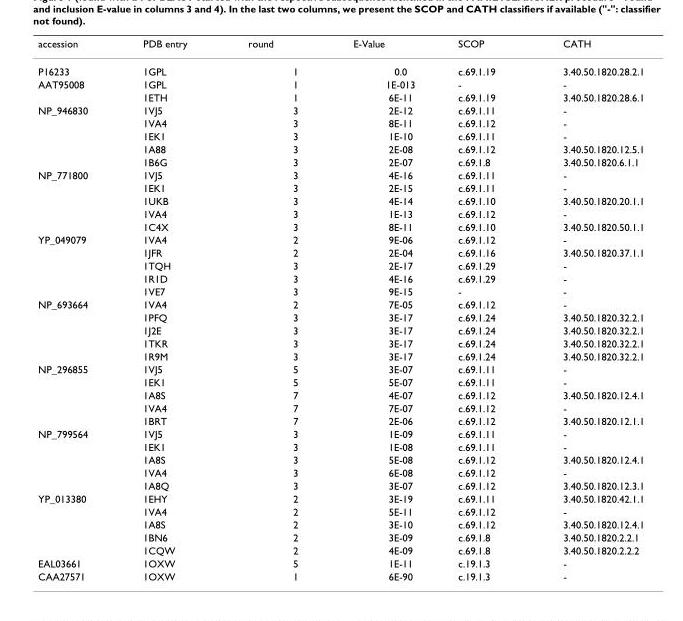table: (37, 37, 643, 581)
table column: (528, 37, 643, 581), (324, 37, 435, 581), (216, 37, 324, 581), (114, 37, 216, 581), (435, 37, 528, 581), (37, 37, 114, 581)
table column header: (37, 37, 643, 57)
table row: (37, 37, 643, 57), (37, 57, 643, 77), (37, 77, 643, 90), (37, 90, 643, 103), (37, 103, 643, 116), (37, 116, 643, 129), (37, 129, 643, 142), (37, 142, 643, 155), (37, 155, 643, 168), (37, 168, 643, 181), (37, 181, 643, 194), (37, 206, 643, 219), (37, 219, 643, 232), (37, 232, 643, 245), (37, 245, 643, 258), (37, 258, 643, 271), (37, 271, 643, 284), (37, 284, 643, 297), (37, 297, 643, 310), (37, 310, 643, 323), (37, 323, 643, 336), (37, 336, 643, 349), (37, 349, 643, 362), (37, 362, 643, 375), (37, 375, 643, 388), (37, 388, 643, 401), (37, 401, 643, 414), (37, 414, 643, 427), (37, 439, 643, 452), (37, 452, 643, 465), (37, 465, 643, 478), (37, 478, 643, 491), (37, 491, 643, 504), (37, 504, 643, 517), (37, 517, 643, 530), (37, 530, 643, 543), (37, 543, 643, 556), (37, 556, 643, 569), (37, 194, 643, 206), (37, 427, 643, 439), (37, 569, 643, 581)
table spanning cell: (37, 103, 114, 168), (37, 232, 114, 297), (37, 297, 114, 362), (37, 362, 114, 427), (37, 491, 114, 556), (37, 168, 114, 232), (37, 427, 114, 491), (37, 77, 114, 103)
